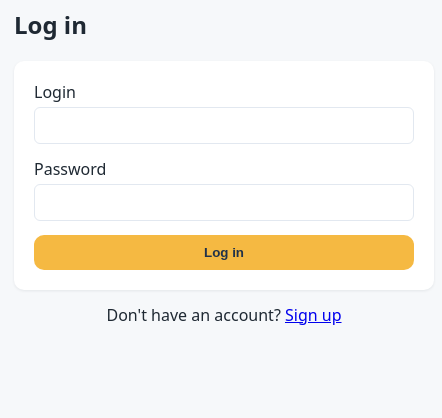
LoginPage › shows an error message when login fails
In the field labelled "Login": (224, 125) [34,107,414,144], type "ada_l"
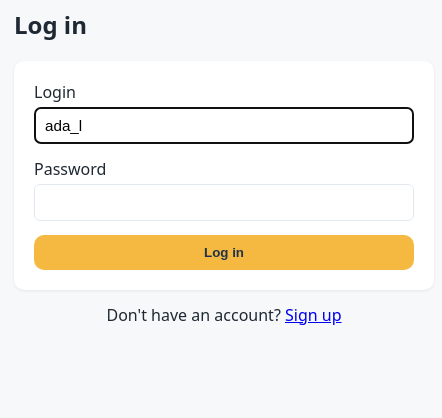
In the password field labelled "Password": (224, 202) [34,184,414,221], type "WrongPass1"
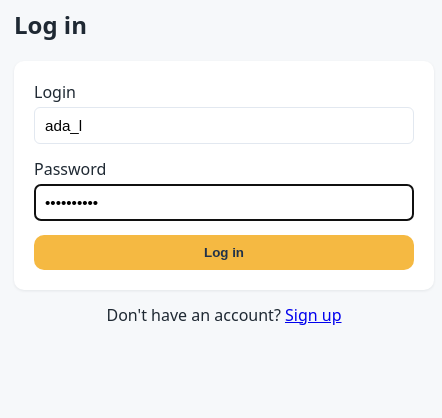
Click the button "Log in": click(224, 252) [34,235,414,270]
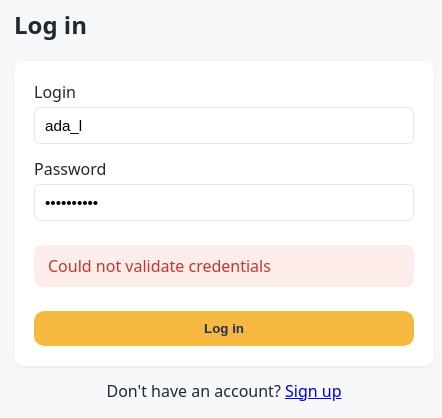
Check: the message reads "Could not validate credentials", box [48,255,271,277]
